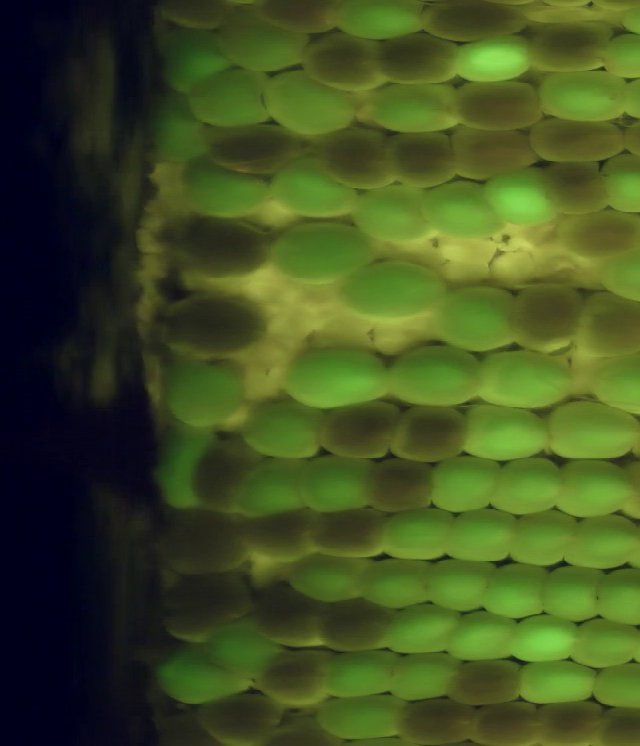fluorescent: (212, 3, 314, 82), (255, 66, 363, 140), (335, 257, 453, 323), (267, 217, 376, 287), (378, 338, 485, 409), (279, 346, 394, 412), (470, 345, 579, 413), (152, 419, 224, 519), (151, 644, 263, 707), (411, 176, 511, 246), (428, 282, 525, 354), (264, 154, 365, 223), (175, 155, 276, 223), (542, 395, 640, 463), (157, 356, 245, 431), (345, 182, 443, 248), (198, 612, 292, 679), (532, 66, 635, 127), (364, 78, 465, 139), (458, 402, 557, 464), (548, 455, 639, 522), (184, 66, 278, 129), (478, 160, 563, 229), (423, 449, 508, 518), (446, 26, 539, 89), (226, 451, 312, 519), (295, 451, 383, 517), (155, 24, 235, 96), (146, 87, 216, 169), (310, 693, 416, 746), (243, 397, 326, 464), (504, 500, 581, 572), (378, 599, 466, 659), (282, 553, 379, 606), (319, 644, 409, 701), (485, 453, 565, 517), (440, 506, 518, 570), (561, 511, 640, 574), (476, 560, 554, 623), (533, 562, 610, 625), (439, 606, 517, 668), (382, 649, 465, 707), (371, 509, 463, 561), (501, 611, 586, 667), (321, 1, 429, 45), (563, 612, 640, 673), (350, 556, 436, 610), (513, 657, 604, 708), (422, 559, 502, 617), (589, 349, 640, 416), (588, 565, 640, 628), (595, 148, 640, 220), (585, 660, 640, 713), (596, 242, 640, 301), (597, 30, 640, 85)
nonfluorescent: (147, 506, 256, 584), (151, 293, 276, 359), (167, 212, 276, 285), (155, 568, 258, 644), (501, 277, 589, 359), (248, 575, 336, 654), (187, 434, 268, 517), (202, 120, 316, 178), (446, 120, 543, 188), (232, 502, 331, 568), (245, 643, 337, 713), (297, 31, 393, 98), (311, 397, 406, 464), (185, 691, 299, 746), (385, 399, 474, 467), (524, 113, 637, 166), (446, 78, 551, 135), (315, 126, 404, 193), (371, 28, 466, 90), (305, 501, 392, 565), (415, 1, 533, 48), (522, 22, 622, 77), (314, 593, 401, 656), (550, 204, 640, 264), (538, 156, 620, 221), (359, 453, 444, 515), (570, 289, 640, 364), (379, 127, 460, 191), (440, 654, 531, 710), (390, 692, 480, 746), (455, 699, 549, 746), (525, 695, 610, 746), (245, 1, 348, 38), (154, 1, 244, 36), (596, 701, 640, 746)
